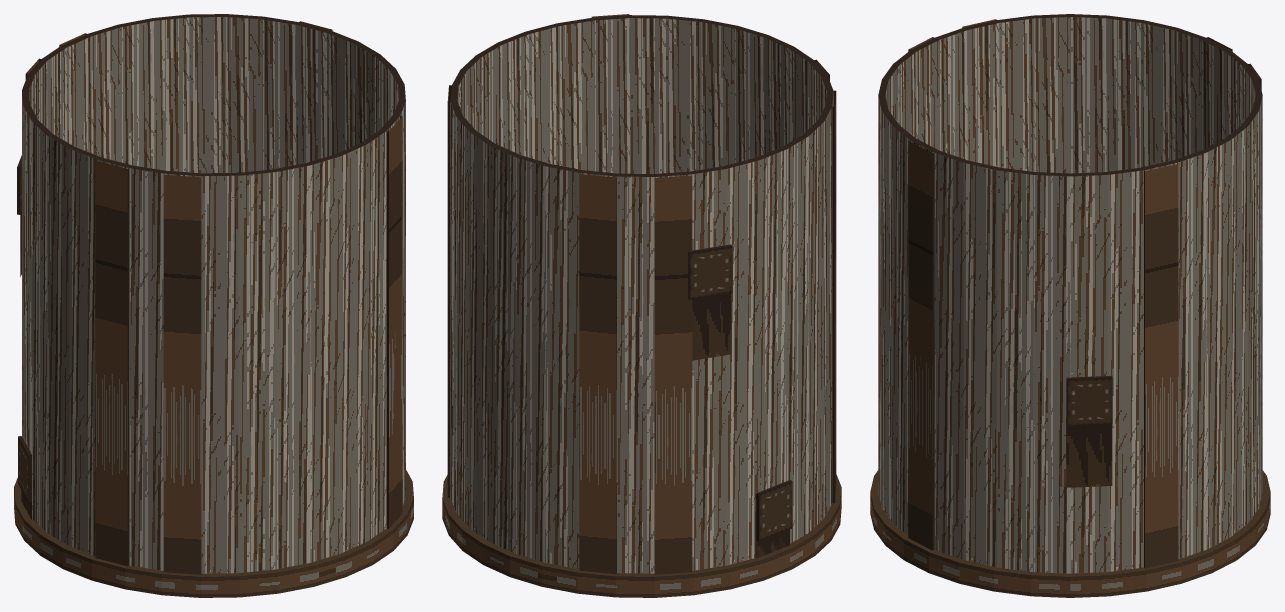
The model's file is TOR-01_Fuste_de_torre_b.gltf.
The picture shows the model from 3 angles, left to right: view 1: azimuth 30°, elevation 25°; view 2: azimuth 150°, elevation 25°; view 3: azimuth 270°, elevation 25°; orthographic projection.
Parts seen in each view (by area): view 1: TOR-01_Fuste_de_torre_b-col; view 2: TOR-01_Fuste_de_torre_b-col; view 3: TOR-01_Fuste_de_torre_b-col.
Boxes of the visible parts, <box> form: TOR-01_Fuste_de_torre_b-col: <box>14,14,413,597</box>; TOR-01_Fuste_de_torre_b-col: <box>442,14,841,597</box>; TOR-01_Fuste_de_torre_b-col: <box>870,14,1270,597</box>.
Size of the model in its own units: 5.21 by 6 by 5.21.
1 material, 1 textured.
